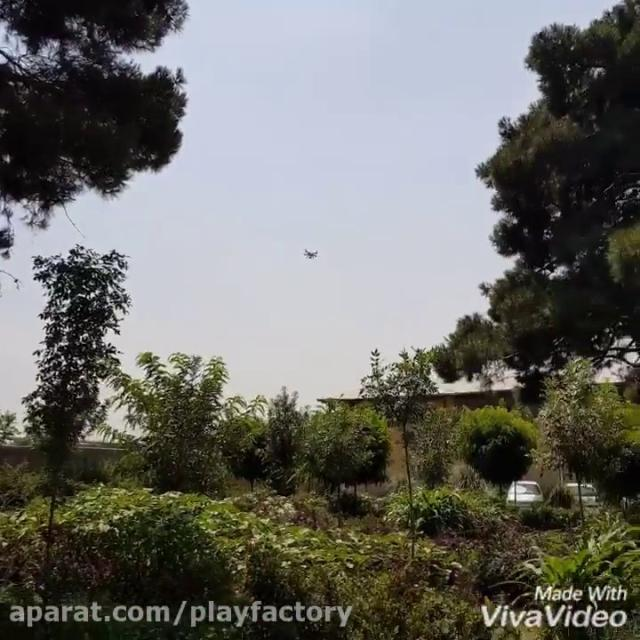drone: (296, 240, 324, 266)
